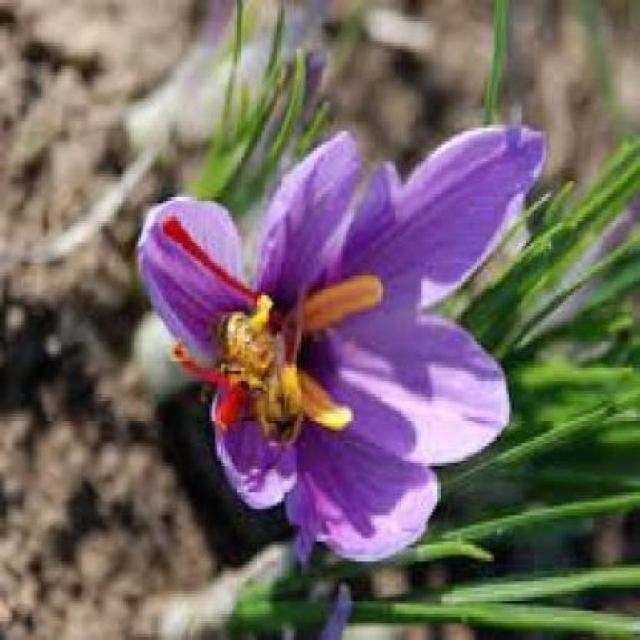Flower: (133, 121, 549, 567)
stigma: (158, 210, 255, 294), (170, 332, 221, 392)
